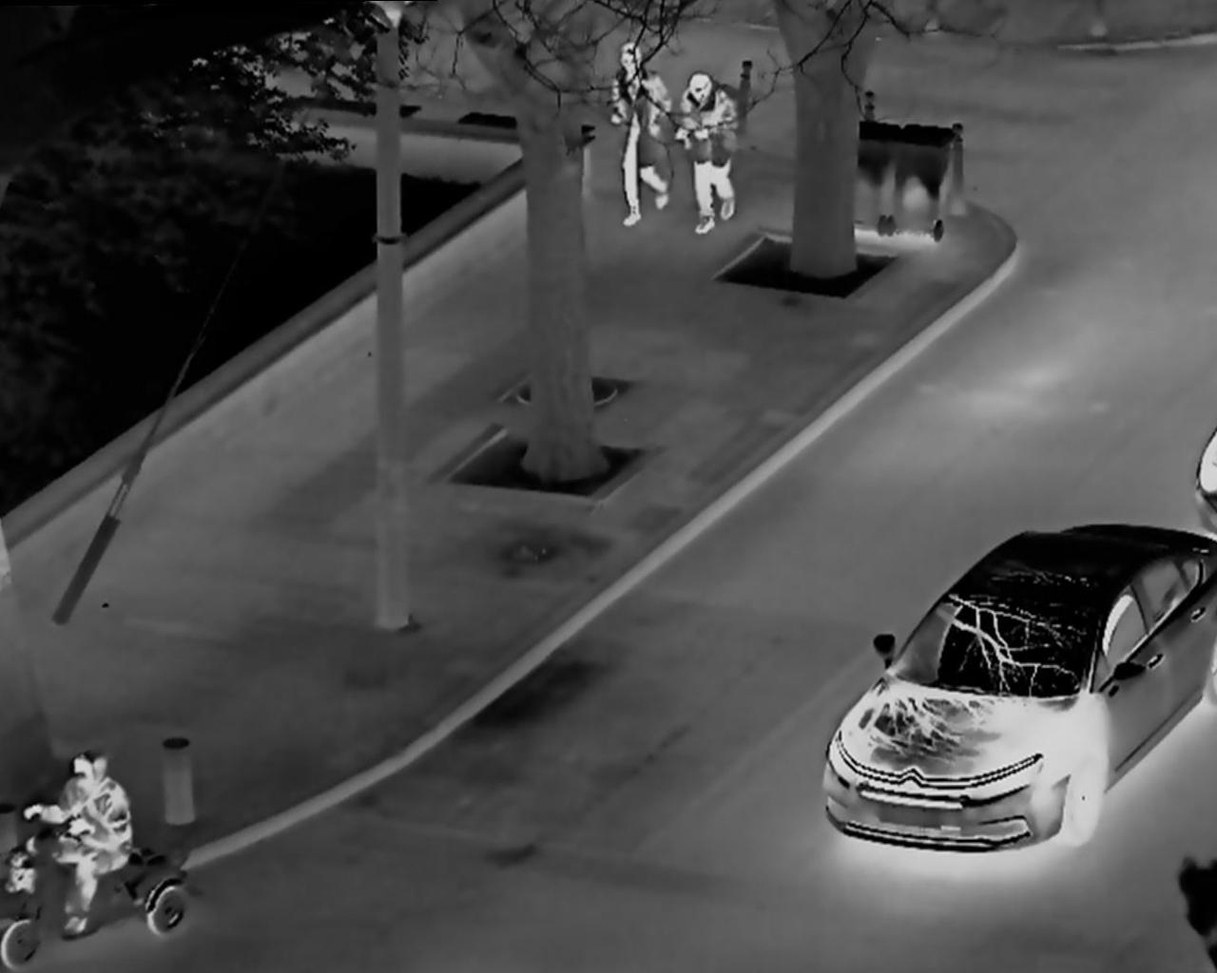person: (26, 741, 140, 944), (600, 23, 669, 235), (670, 59, 740, 243)
